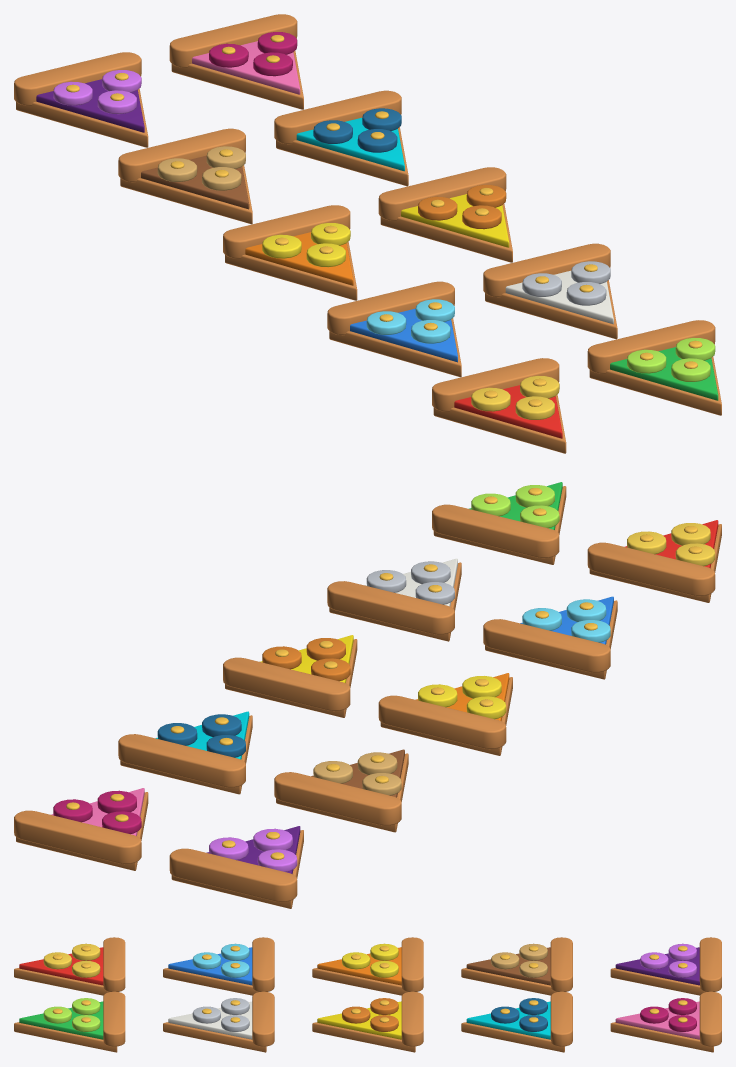
The model's file is PR3D_PizzaVariants_Kit.glb.
3 views of the same model, one above another, from view 1: azimuth 30°, elevation 25°; view 2: azimuth 150°, elevation 25°; view 3: azimuth 270°, elevation 25° (orthographic). The views are drawn at different scales.
Visible parts, largest first — view 1: PR3D_Pizza_06_Yellow_Corn, PR3D_Pizza_10_Pink_Ham, PR3D_Pizza_02_Green_Basil, PR3D_Pizza_01_Red_Tomato, PR3D_Pizza_04_White_Garlic, PR3D_Pizza_08_Cyan_Seafood, PR3D_Pizza_05_Orange_Pepper, PR3D_Pizza_09_DarkPurple_Olive, PR3D_Pizza_03_Blue_Cheese, PR3D_Pizza_07_Brown_Mushroom; view 2: PR3D_Pizza_01_Red_Tomato, PR3D_Pizza_09_DarkPurple_Olive, PR3D_Pizza_05_Orange_Pepper, PR3D_Pizza_07_Brown_Mushroom, PR3D_Pizza_02_Green_Basil, PR3D_Pizza_08_Cyan_Seafood, PR3D_Pizza_10_Pink_Ham, PR3D_Pizza_03_Blue_Cheese, PR3D_Pizza_04_White_Garlic, PR3D_Pizza_06_Yellow_Corn; view 3: PR3D_Pizza_02_Green_Basil, PR3D_Pizza_04_White_Garlic, PR3D_Pizza_06_Yellow_Corn, PR3D_Pizza_08_Cyan_Seafood, PR3D_Pizza_10_Pink_Ham, PR3D_Pizza_01_Red_Tomato, PR3D_Pizza_03_Blue_Cheese, PR3D_Pizza_05_Orange_Pepper, PR3D_Pizza_07_Brown_Mushroom, PR3D_Pizza_09_DarkPurple_Olive.
Boxes of the visible parts, x1,y1,x2,y2 form: PR3D_Pizza_06_Yellow_Corn: (378,167,512,262); PR3D_Pizza_10_Pink_Ham: (169,14,303,109); PR3D_Pizza_02_Green_Basil: (587,320,721,415); PR3D_Pizza_01_Red_Tomato: (432,358,566,453); PR3D_Pizza_04_White_Garlic: (483,243,617,339); PR3D_Pizza_08_Cyan_Seafood: (274,90,408,186); PR3D_Pizza_05_Orange_Pepper: (223,205,357,300); PR3D_Pizza_09_DarkPurple_Olive: (14,52,148,147); PR3D_Pizza_03_Blue_Cheese: (327,281,461,377); PR3D_Pizza_07_Brown_Mushroom: (118,128,252,224); PR3D_Pizza_01_Red_Tomato: (587,520,721,602); PR3D_Pizza_09_DarkPurple_Olive: (169,826,303,908); PR3D_Pizza_05_Orange_Pepper: (378,673,512,755); PR3D_Pizza_07_Brown_Mushroom: (274,749,408,832); PR3D_Pizza_02_Green_Basil: (432,482,566,564); PR3D_Pizza_08_Cyan_Seafood: (118,711,252,794); PR3D_Pizza_10_Pink_Ham: (14,788,148,870); PR3D_Pizza_03_Blue_Cheese: (483,596,617,679); PR3D_Pizza_04_White_Garlic: (327,558,461,641); PR3D_Pizza_06_Yellow_Corn: (223,635,357,717); PR3D_Pizza_02_Green_Basil: (14,991,125,1052); PR3D_Pizza_04_White_Garlic: (163,991,274,1052); PR3D_Pizza_06_Yellow_Corn: (312,991,423,1052); PR3D_Pizza_08_Cyan_Seafood: (461,991,572,1052); PR3D_Pizza_10_Pink_Ham: (610,991,721,1052); PR3D_Pizza_01_Red_Tomato: (14,937,125,995); PR3D_Pizza_03_Blue_Cheese: (163,937,274,995); PR3D_Pizza_05_Orange_Pepper: (312,937,423,995); PR3D_Pizza_07_Brown_Mushroom: (461,937,572,995); PR3D_Pizza_09_DarkPurple_Olive: (610,937,721,995).
Bounding box in the file's own units: 3.31 × 0.347 × 10.21.
